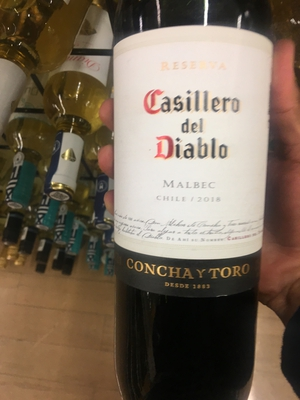casillero del diablo malbec: (103, 12, 278, 400)
